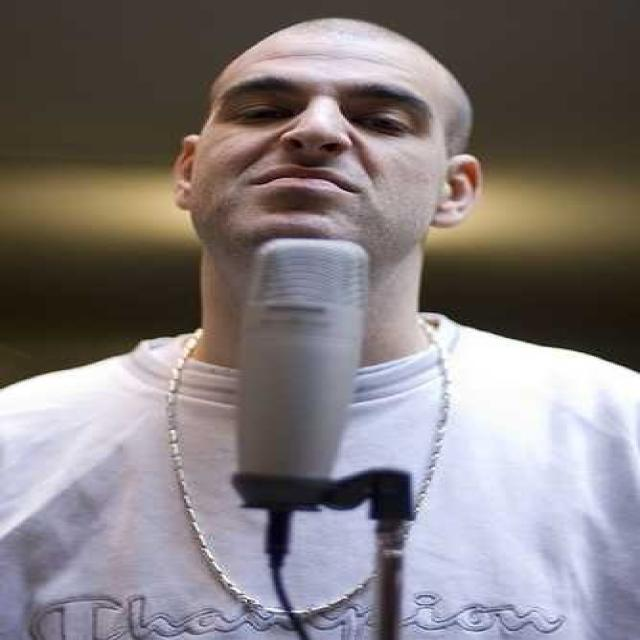microphone: (228, 234, 392, 527)
